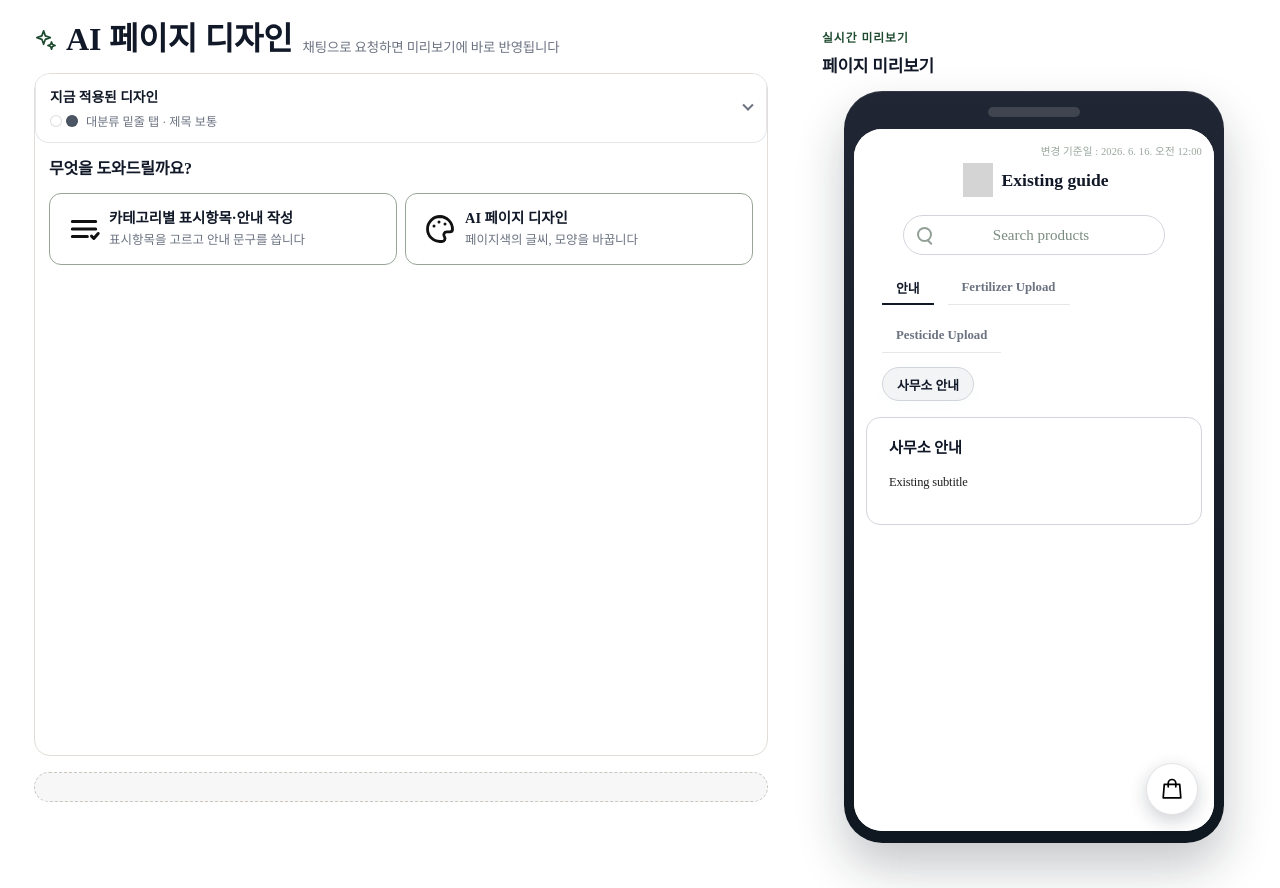
Test: StorefrontBuilderPage › switches to a category tab and sends a card-design prompt through requestCardStyleAiIntent
Click the button "AI 페이지 디자인 페이지색의 글씨, 모양을 바꿉니다" at {"x": 440, "y": 229}, box [405,193,753,265]
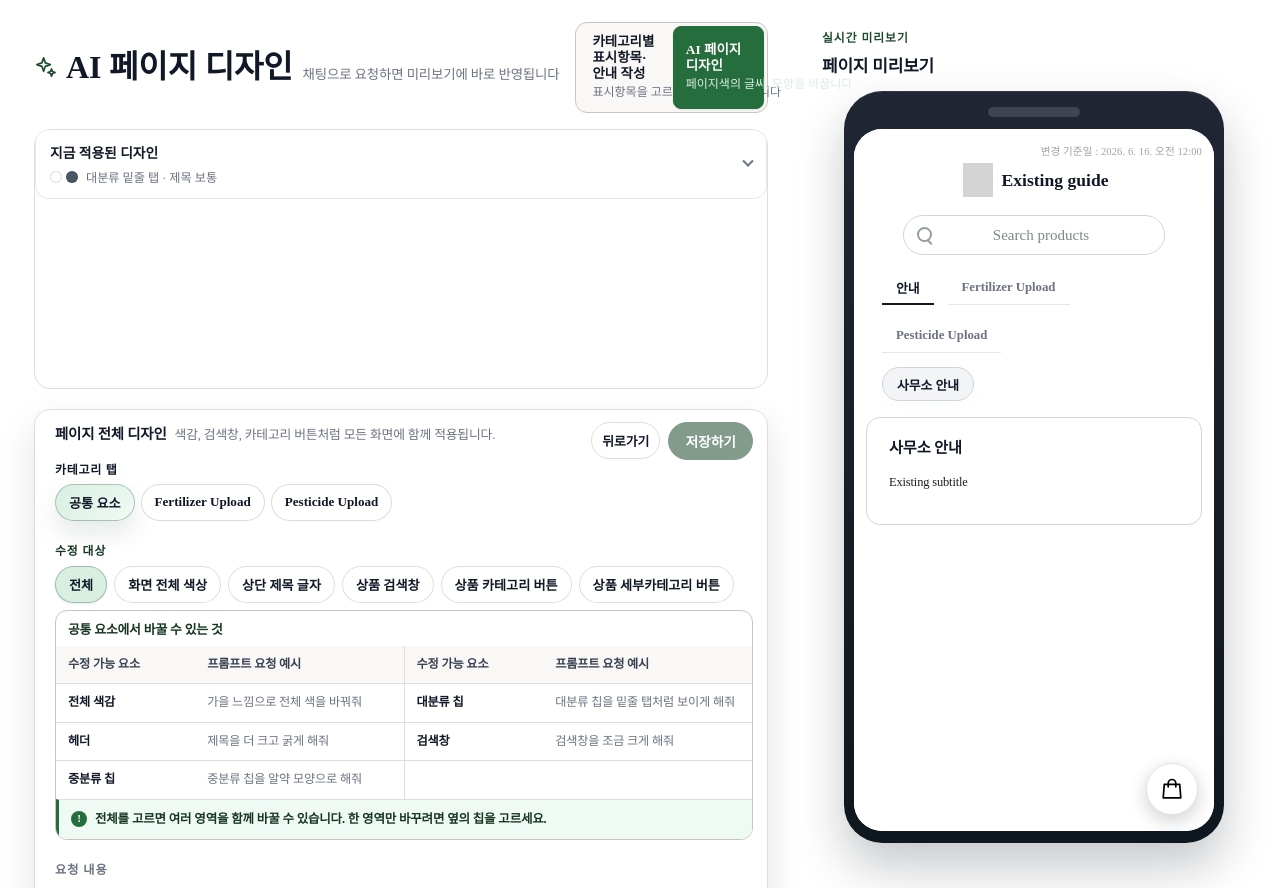
Click the tab "Fertilizer Upload" at {"x": 203, "y": 502}, box [140,484,265,521]
(page scrolled)
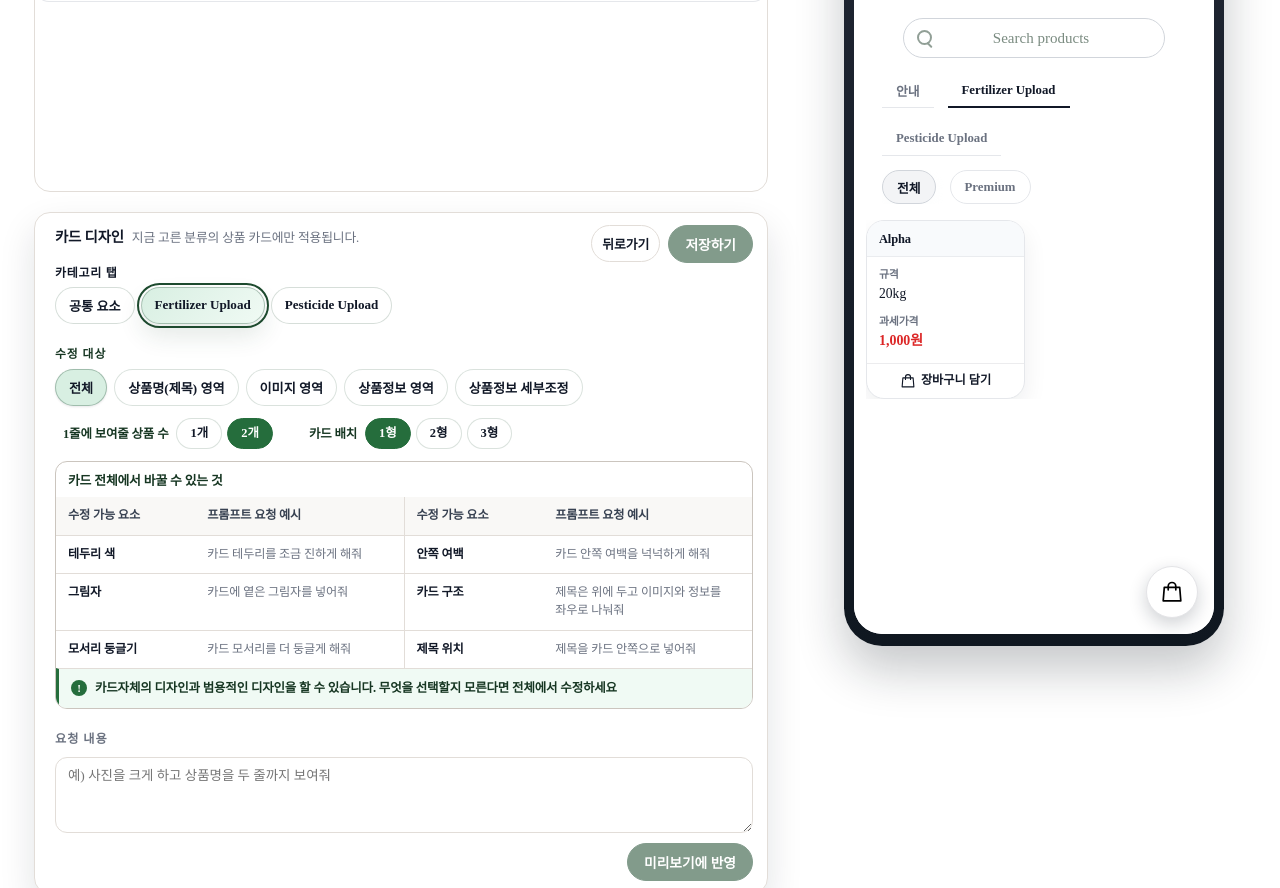
Expected: the text "카드 디자인" is shown, [55,225,124,246]
Type "Make the price field bold." into the text box with test id "storefront-chat-composer-input" at {"x": 404, "y": 795}, box [55,757,753,834]
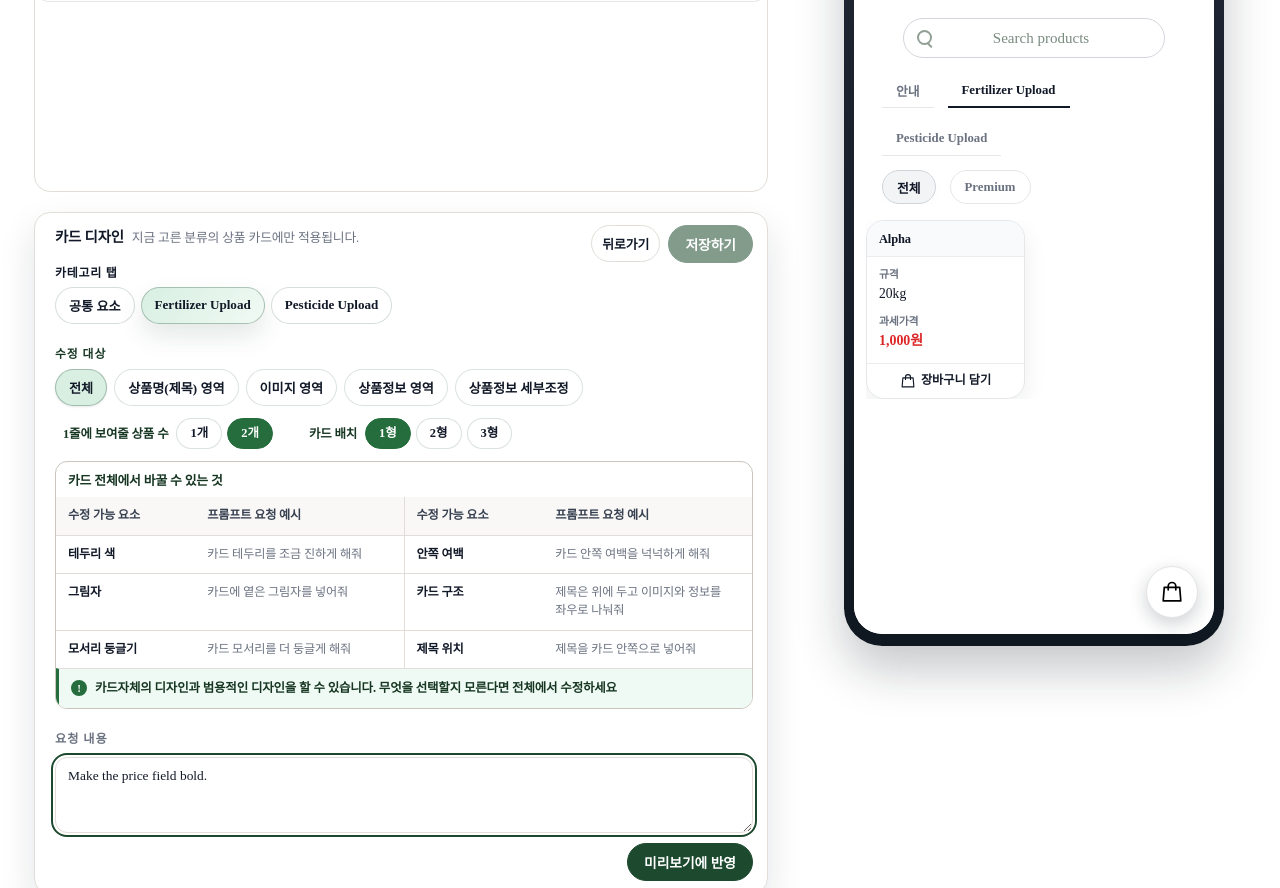
Click the button with test id "storefront-chat-composer-send" at {"x": 690, "y": 862}, box [627,844,753,882]
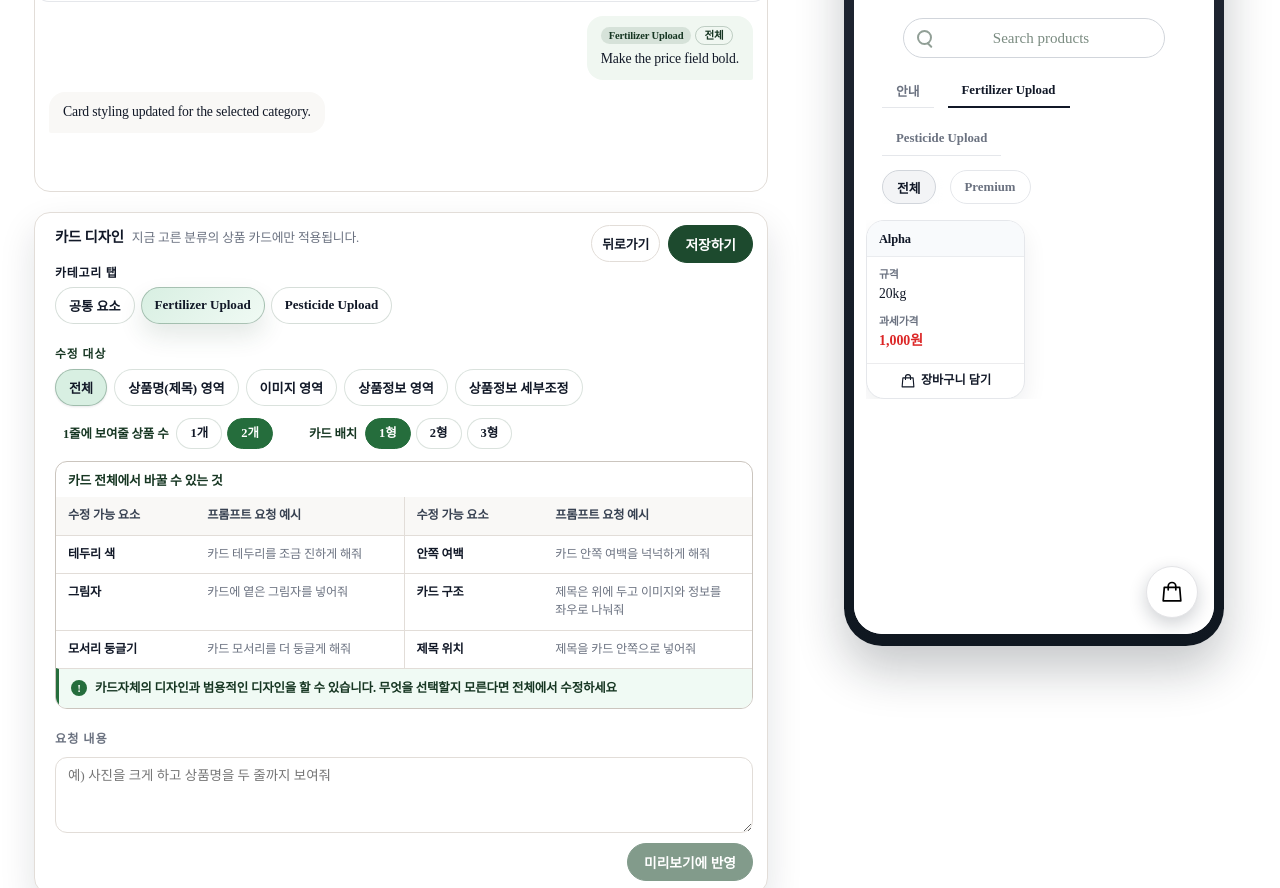
Expected: the text "Card styling updated for the selected category." is shown, [63,102,311,123]
